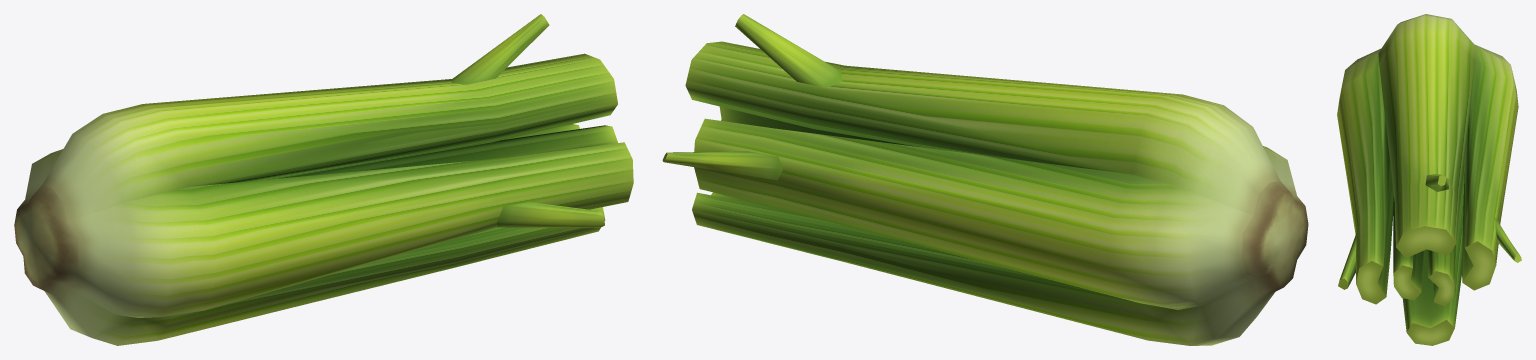
Rendered from Celery.fbx.
3 renders of one model, left to right at view 1: azimuth 30°, elevation 25°; view 2: azimuth 150°, elevation 25°; view 3: azimuth 270°, elevation 25°, orthographic. The views are drawn at different scales.
Visible parts, largest first — view 1: Celery; view 2: Celery; view 3: Celery.
Boxes of the visible parts, bbox=[...] form: Celery: bbox=[14, 14, 633, 345]; Celery: bbox=[662, 14, 1308, 345]; Celery: bbox=[1337, 14, 1521, 345].
Size of the model in its own units: 109 by 41.39 by 42.54.
